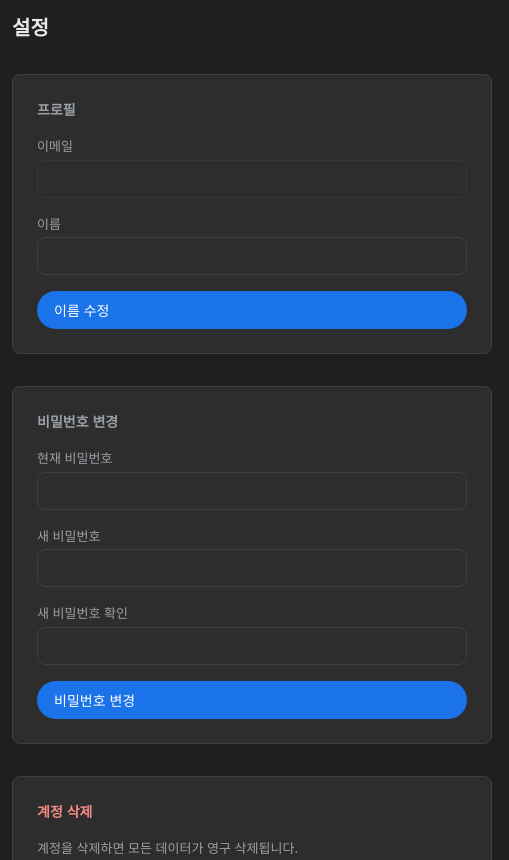
Test: FE-12: 사용자 설정 화면 › 이름 수정 폼 - 빈 이름 제출 시 에러
Step 1. Click the button "이름 수정" → coordinates (82, 310), box [37,291,467,329]
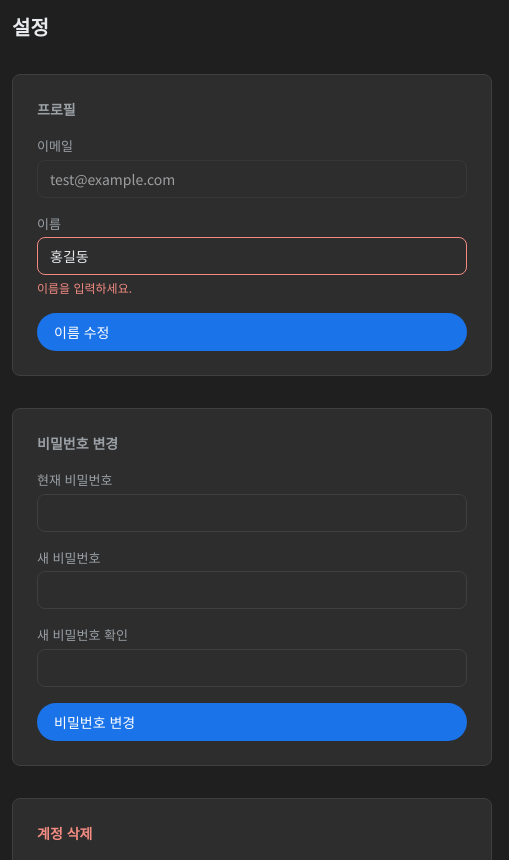
Check: the text "이름을 입력하세요." is shown, box [37,279,132,296]
